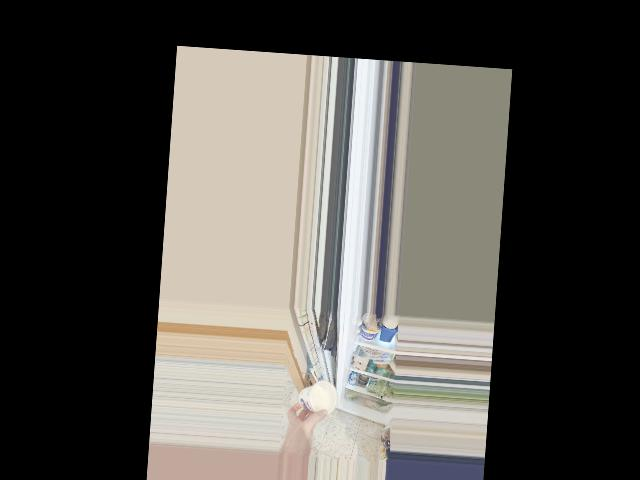cotage: (297, 379, 337, 416)
